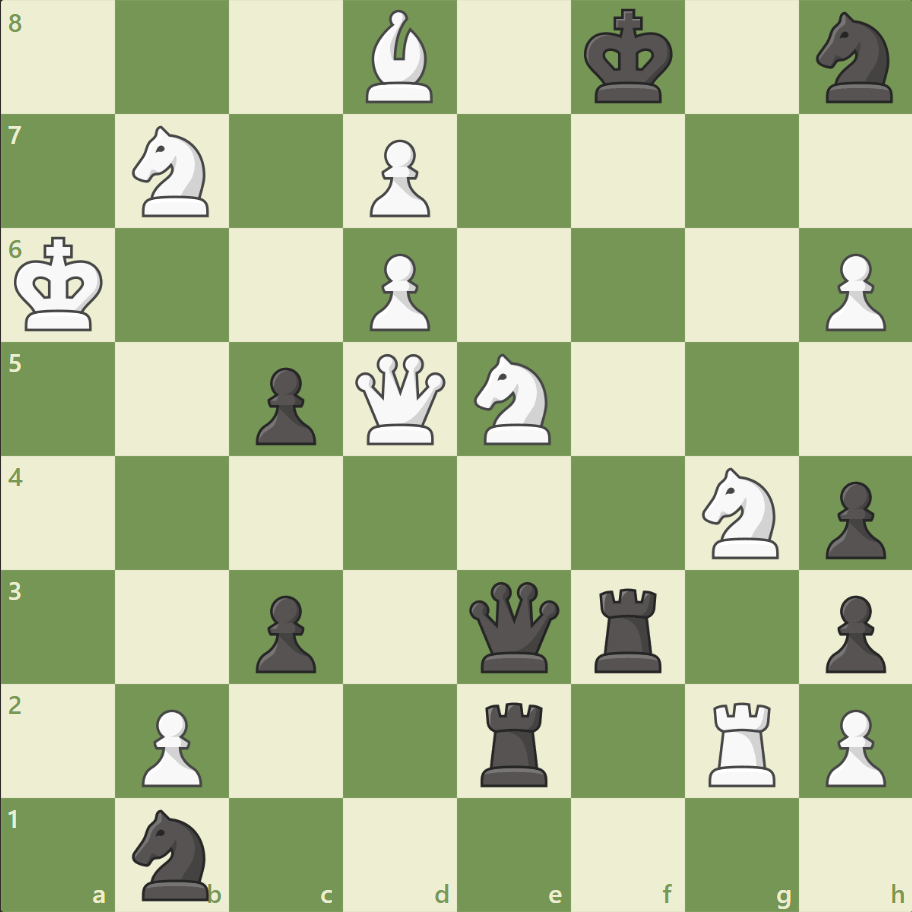B: (358, 6, 442, 109)
K: (11, 231, 111, 339)
N: (124, 121, 222, 223), (692, 461, 789, 564), (465, 348, 562, 450)
P: (133, 700, 208, 791), (361, 132, 435, 223), (361, 246, 435, 337), (815, 246, 889, 337), (815, 700, 889, 791)
Q: (351, 349, 450, 449)
R: (700, 693, 783, 790)
k: (579, 4, 679, 112)
n: (124, 802, 222, 904), (806, 7, 903, 110)
p: (247, 359, 322, 450), (247, 586, 322, 677), (815, 473, 889, 564), (815, 586, 889, 677)
q: (464, 576, 563, 676)
r: (587, 579, 670, 676), (473, 693, 556, 790)
